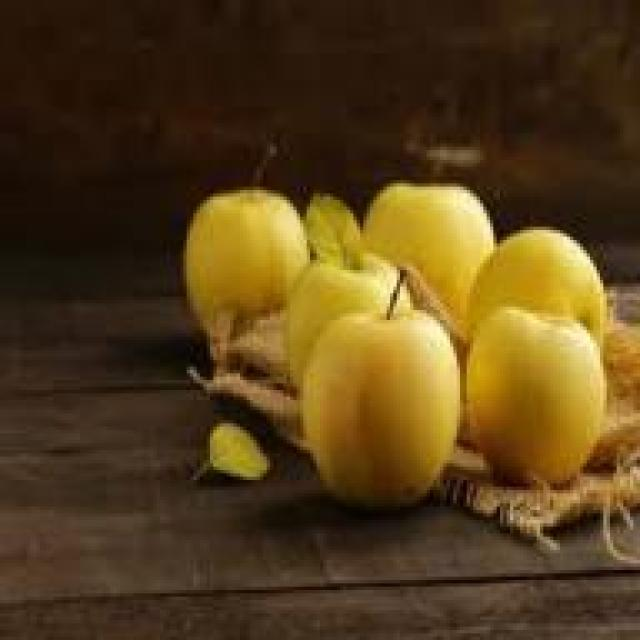apple: (463, 300, 620, 487), (300, 317, 450, 510), (364, 170, 494, 337), (183, 183, 320, 337), (480, 213, 613, 367), (270, 250, 417, 383)
